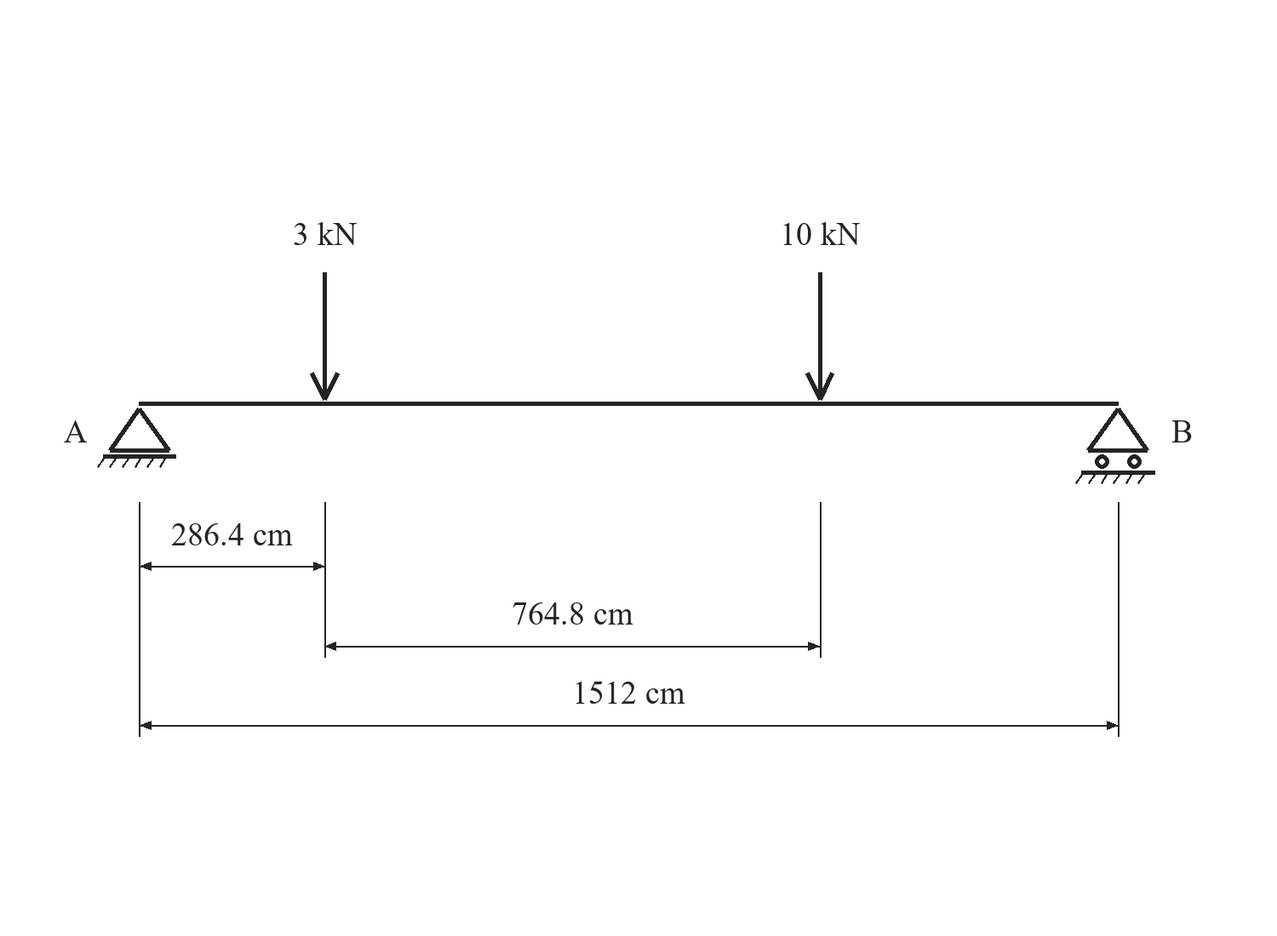pin_support: (97, 408, 176, 468)
point_load: (310, 272, 340, 401), (805, 272, 834, 401)
roller_support: (1075, 408, 1155, 484)
